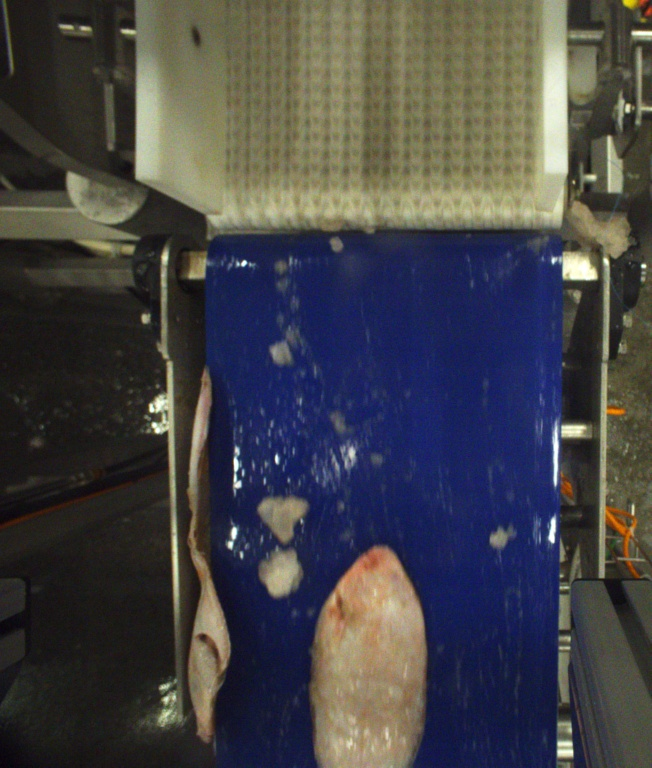SOL: (308, 541, 433, 768)
